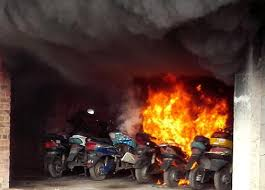fire: (137, 69, 231, 148)
